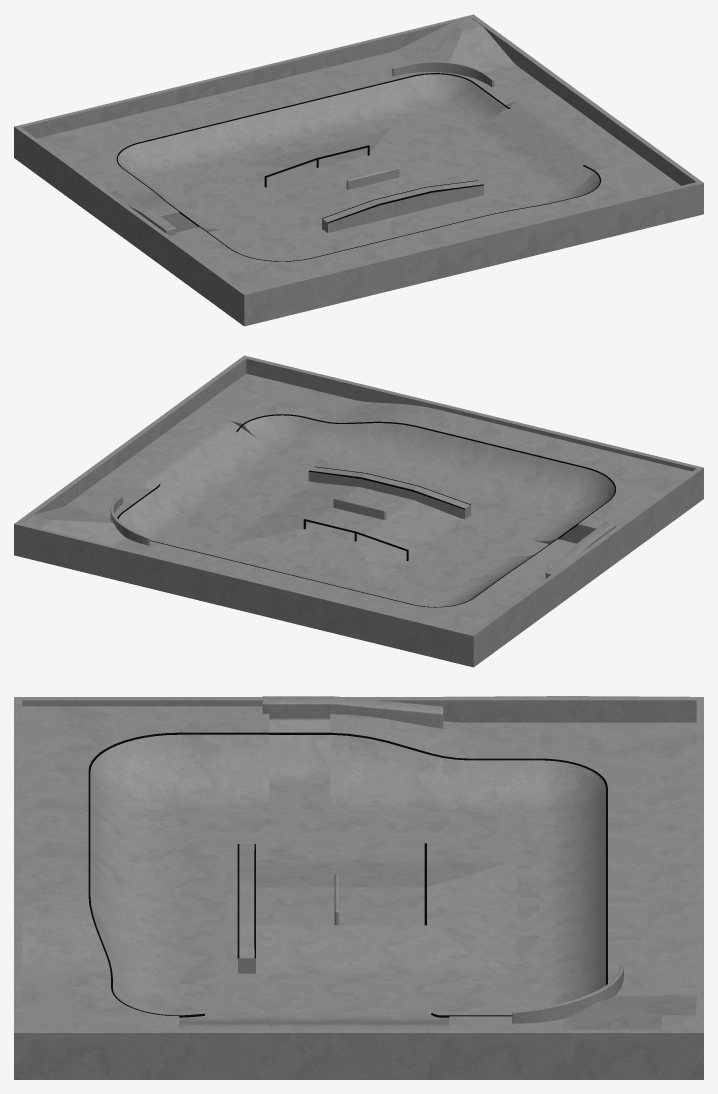
The model's file is savana_box.fbx.
The picture shows the model from 3 angles, top to bottom: view 1: azimuth 30°, elevation 25°; view 2: azimuth 150°, elevation 25°; view 3: azimuth 270°, elevation 25°; orthographic projection. The views are drawn at different scales.
Visible parts, largest first — view 1: bowl, wall, ground, savana, bowl.45, piramide_canto, savana_box, bowl_coping, bowl_gap, piramide_canto_rail, rail_central; view 2: bowl, wall, ground, savana, bowl.45, savana_box, piramide_canto, bowl_coping, bowl_gap, rail_central, piramide_canto_rail; view 3: bowl, wall, ground, savana, bowl_gap, bowl.45, piramide_canto, bowl_coping, savana_box, piramide_canto_rail.
Boxes of the visible parts, bbox=[...] form: bowl: bbox=[37, 51, 680, 291]; wall: bbox=[14, 14, 703, 326]; ground: bbox=[162, 108, 554, 261]; savana: bbox=[235, 127, 465, 228]; bowl.45: bbox=[466, 93, 643, 196]; piramide_canto: bbox=[393, 18, 516, 72]; savana_box: bbox=[322, 180, 483, 232]; bowl_coping: bbox=[116, 73, 600, 261]; bowl_gap: bbox=[110, 191, 251, 243]; piramide_canto_rail: bbox=[392, 61, 494, 87]; rail_central: bbox=[346, 167, 399, 189]; bowl: bbox=[66, 373, 691, 633]; wall: bbox=[14, 355, 703, 667]; ground: bbox=[162, 450, 554, 604]; savana: bbox=[222, 481, 464, 582]; bowl.45: bbox=[104, 412, 281, 515]; savana_box: bbox=[308, 467, 470, 519]; piramide_canto: bbox=[22, 505, 125, 545]; bowl_coping: bbox=[117, 414, 616, 607]; bowl_gap: bbox=[505, 522, 616, 578]; rail_central: bbox=[333, 497, 386, 519]; piramide_canto_rail: bbox=[110, 495, 149, 545]; bowl: bbox=[22, 706, 696, 1029]; wall: bbox=[14, 696, 703, 1079]; ground: bbox=[179, 812, 539, 1011]; savana: bbox=[256, 859, 516, 973]; bowl_gap: bbox=[262, 696, 443, 811]; bowl.45: bbox=[179, 1011, 449, 1029]; piramide_canto: bbox=[561, 995, 696, 1029]; bowl_coping: bbox=[88, 732, 607, 1017]; savana_box: bbox=[238, 844, 255, 973]; piramide_canto_rail: bbox=[512, 965, 623, 1023].
Bounding box in the file's own units: 3533 × 260 × 3065.
